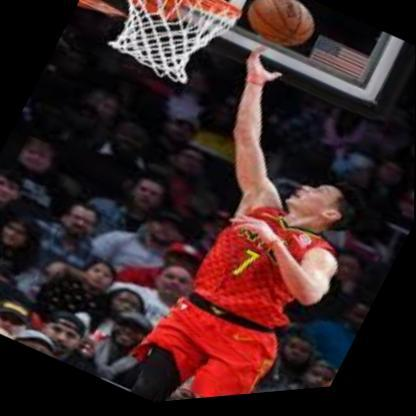basketball: (239, 0, 321, 64)
rim: (75, 0, 243, 106)
